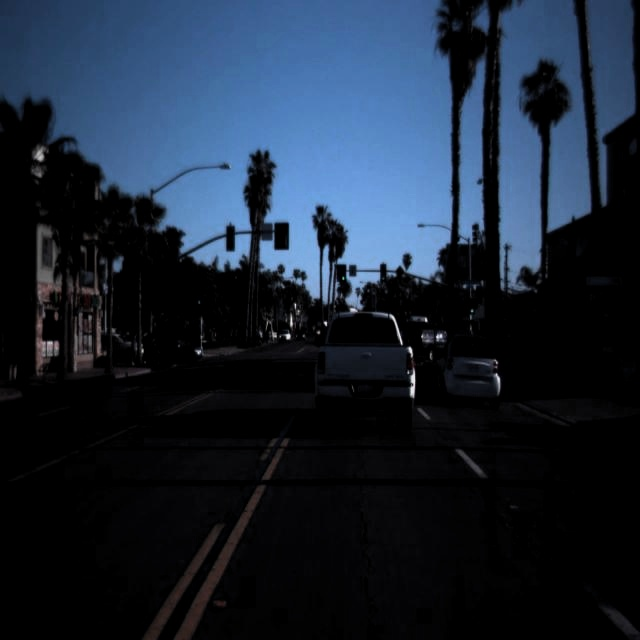go: (378, 262, 388, 282), (196, 286, 202, 306)
go traffic light: (378, 262, 388, 282), (196, 286, 202, 306)
